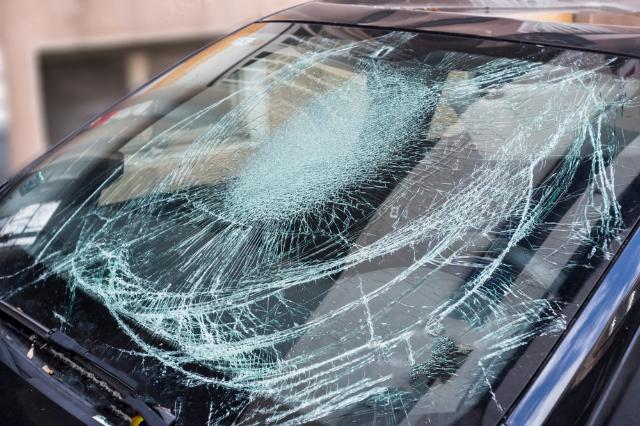glass shatter: (0, 22, 640, 426)
